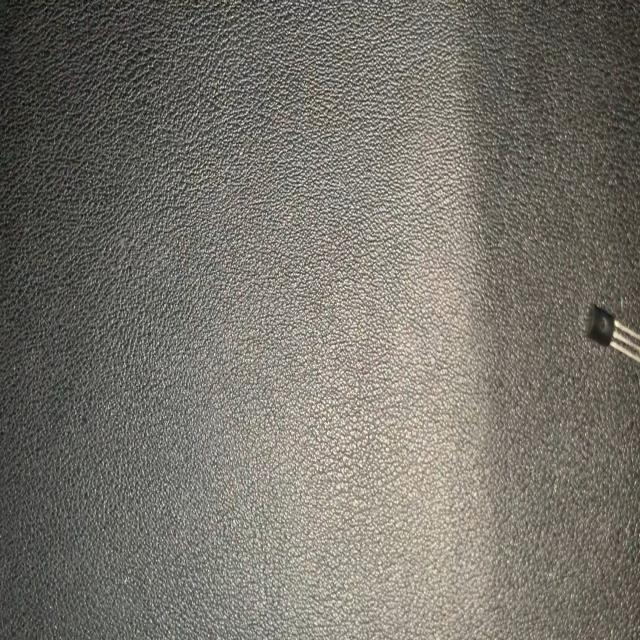BJT: (581, 298, 640, 366)
